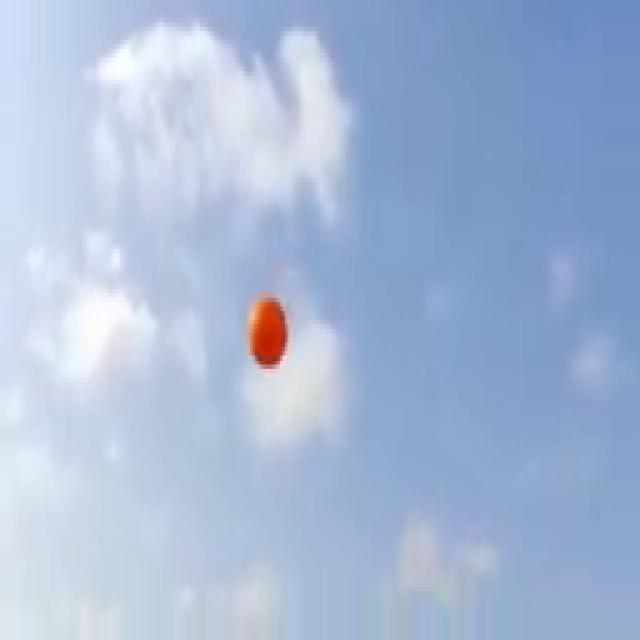red: (246, 293, 289, 370)
